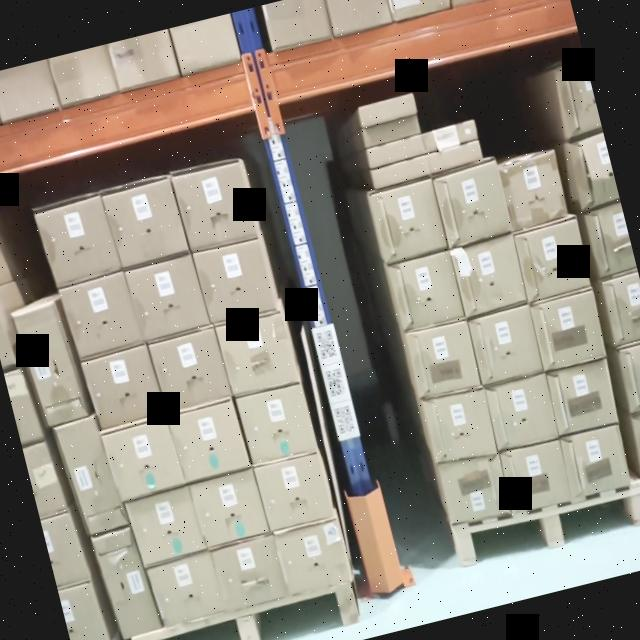box: (57, 420, 124, 536), (16, 308, 83, 422), (104, 177, 187, 269), (36, 199, 121, 287), (102, 418, 185, 507), (61, 268, 143, 358), (171, 164, 253, 250), (217, 313, 300, 394), (94, 529, 158, 634), (149, 329, 229, 411), (194, 242, 273, 323), (169, 403, 249, 482), (81, 344, 161, 422), (128, 255, 208, 333), (127, 490, 205, 569), (515, 221, 591, 302), (452, 238, 526, 319), (433, 168, 511, 244), (238, 383, 315, 458), (532, 292, 606, 370), (370, 186, 446, 261), (390, 257, 464, 332), (191, 468, 267, 541), (468, 312, 544, 385), (260, 455, 334, 529), (438, 452, 509, 528), (408, 324, 480, 396), (276, 522, 349, 593), (149, 554, 226, 621), (500, 153, 567, 230), (502, 445, 576, 513), (486, 378, 556, 449), (548, 366, 620, 433), (216, 539, 285, 607), (423, 393, 494, 459), (566, 428, 632, 492), (371, 157, 428, 188), (364, 120, 420, 150), (357, 95, 416, 123), (419, 122, 477, 150), (367, 139, 426, 166), (428, 143, 482, 172)
